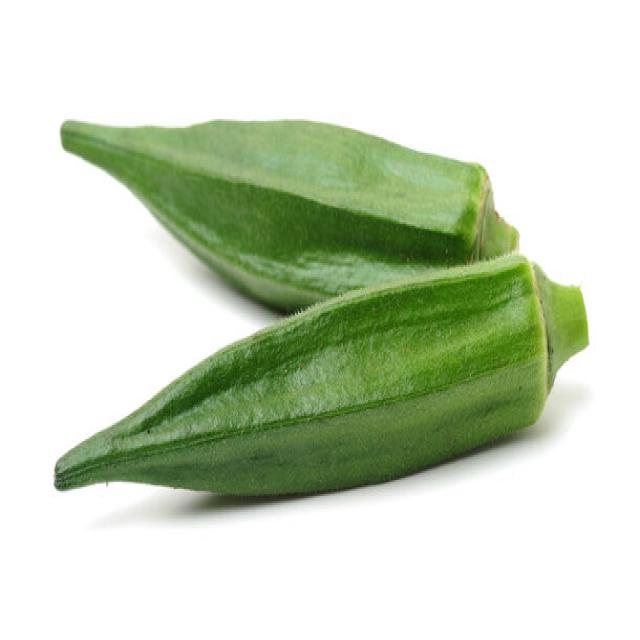Okra: (52, 250, 588, 500), (59, 114, 519, 313)
